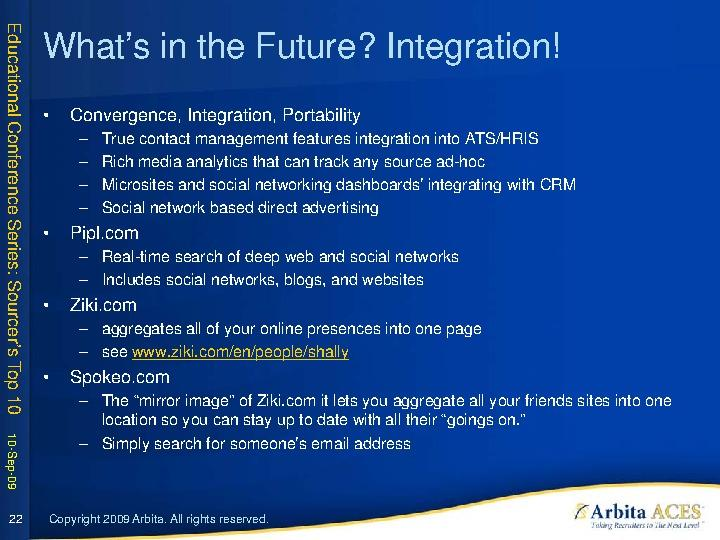paragraph: (35, 96, 693, 464)
title: (35, 19, 571, 73)
